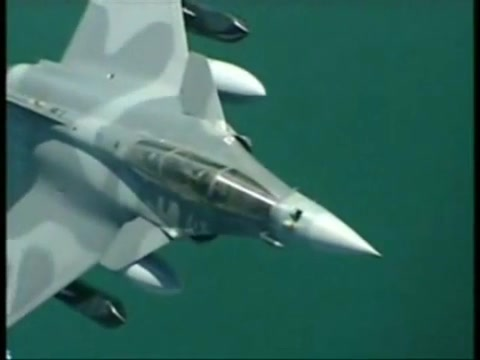aeroplane: (5, 3, 382, 359)
